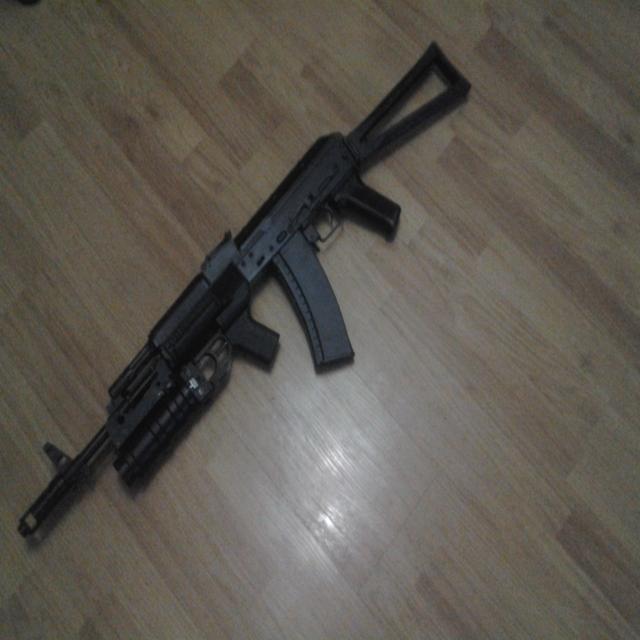firearm: (17, 38, 475, 540)
